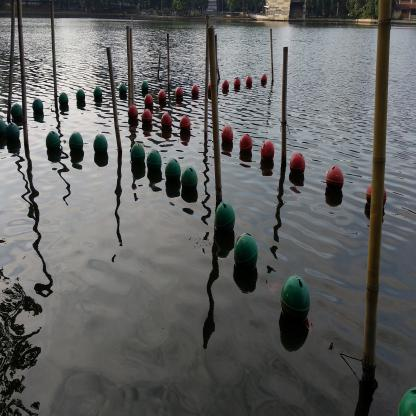green_buoy: (282, 273, 310, 329), (232, 232, 260, 280), (213, 199, 234, 235), (182, 166, 198, 198), (146, 148, 162, 179), (93, 132, 109, 162), (165, 158, 182, 186), (68, 132, 85, 158), (46, 130, 60, 158), (130, 143, 146, 166), (6, 124, 20, 148), (32, 98, 45, 122), (74, 87, 87, 108), (10, 103, 24, 121), (118, 82, 128, 99), (58, 93, 70, 107), (93, 86, 103, 102), (141, 78, 149, 93)
red_buoy: (324, 163, 345, 198), (289, 150, 306, 180), (260, 139, 276, 165), (239, 134, 254, 161), (221, 124, 234, 154), (127, 106, 140, 126), (181, 116, 192, 139), (141, 110, 153, 131), (220, 77, 232, 96), (190, 83, 200, 102), (162, 114, 173, 130), (174, 86, 185, 102), (158, 89, 168, 106), (233, 76, 243, 93), (143, 94, 155, 107), (245, 75, 254, 89), (261, 74, 268, 87)
